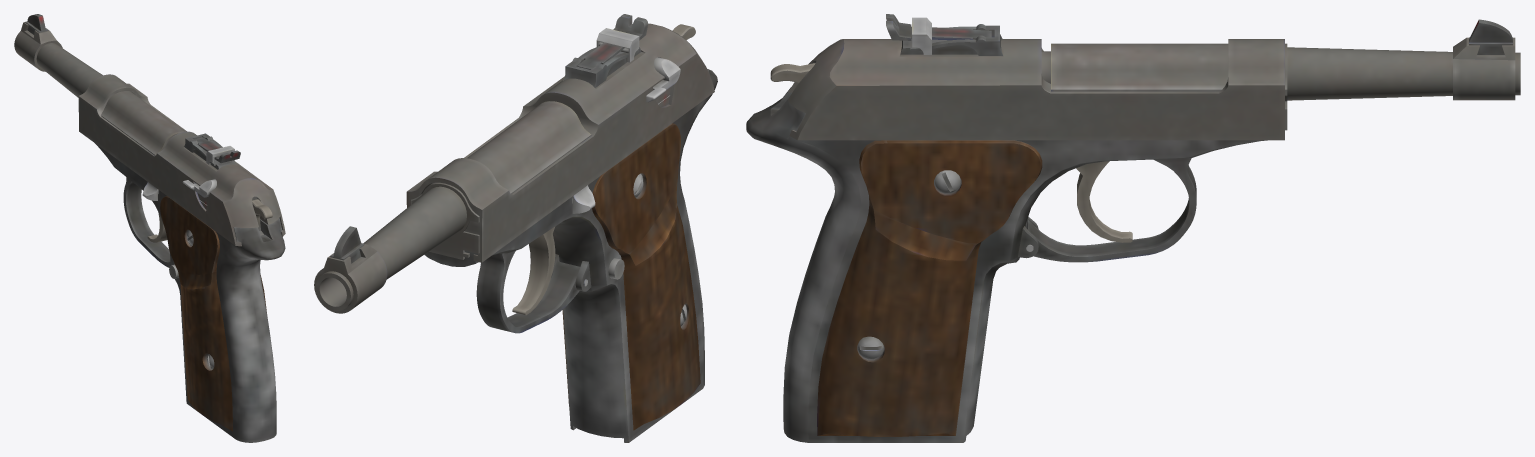
Rendered from service-pistol-r1.glb.
3 renders of one model, left to right at view 1: azimuth 30°, elevation 25°; view 2: azimuth 150°, elevation 25°; view 3: azimuth 270°, elevation 25°, orthographic. The views are drawn at different scales.
Parts seen in each view (by area): view 1: PistolBody, PistolSlide, PistolHammer; view 2: PistolBody, PistolSlide, PistolTrigger; view 3: PistolBody, PistolSlide, PistolTrigger.
Boxes of the visible parts, <box> form: PistolBody: <box>14,14,285,442</box>; PistolSlide: <box>78,74,285,246</box>; PistolHammer: <box>252,199,272,235</box>; PistolBody: <box>314,69,717,442</box>; PistolSlide: <box>406,14,714,262</box>; PistolTrigger: <box>512,226,555,315</box>; PistolBody: <box>746,19,1520,442</box>; PistolSlide: <box>788,14,1284,140</box>; PistolTrigger: <box>1076,161,1132,242</box>.
Size of the model in its own units: 0.0318 by 0.1295 by 0.2219.
1 material, 1 textured.
